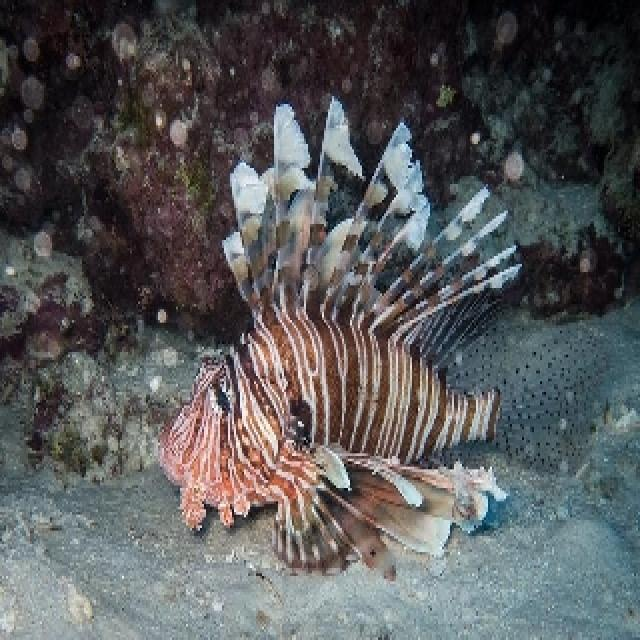fish: (154, 90, 611, 581)
sea-floor: (0, 1, 638, 387)
